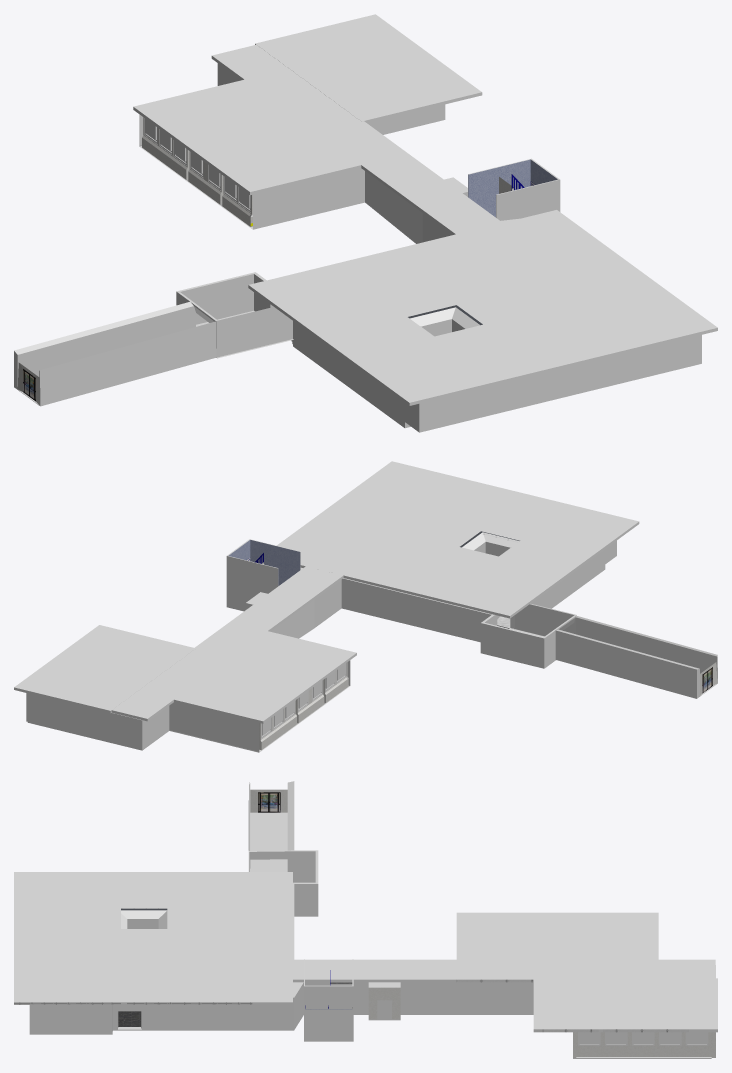
The model's file is iut_hall 1.fbx.
The picture shows the model from 3 angles, top to bottom: view 1: azimuth 30°, elevation 25°; view 2: azimuth 150°, elevation 25°; view 3: azimuth 270°, elevation 25°; orthographic projection. The views are drawn at different scales.
Parts seen in each view (by area): view 1: iut; view 2: iut; view 3: iut.
Part boxes in pixels (x1,y1,x2,y2): iut: (14, 14, 717, 432); iut: (14, 461, 717, 752); iut: (14, 781, 717, 1058).
Size of the model in its own units: 66.83 by 7.68 by 77.63.
